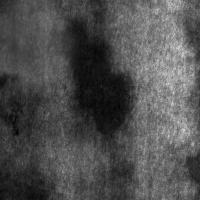patches: (50, 16, 136, 139), (0, 0, 79, 93)
